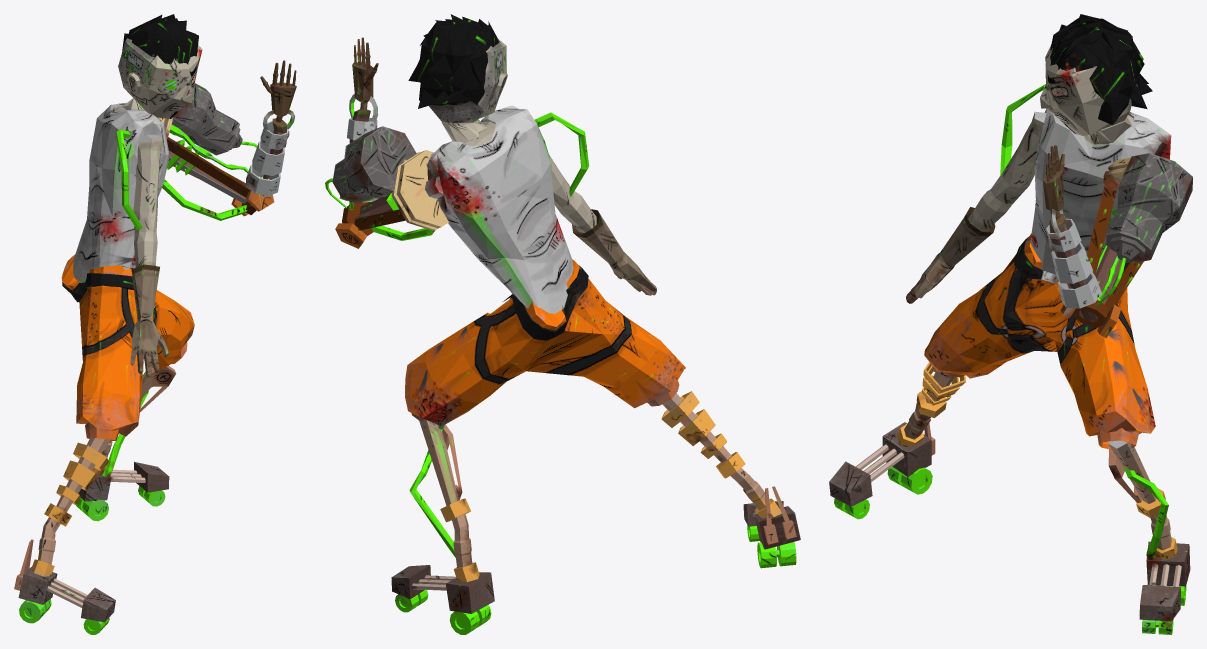
File: CyborgFINALAnimation_000047.obj
3 views of the same model, side by side, from view 1: azimuth 30°, elevation 25°; view 2: azimuth 150°, elevation 25°; view 3: azimuth 270°, elevation 25° (orthographic). The views are drawn at different scales.
Parts seen in each view (by area): view 1: CyborgMesh_Cube.002; view 2: CyborgMesh_Cube.002; view 3: CyborgMesh_Cube.002.
Part boxes in pixels (box(x1,y1,x2,y2)): CyborgMesh_Cube.002: box(14, 14, 296, 634); CyborgMesh_Cube.002: box(325, 14, 800, 634); CyborgMesh_Cube.002: box(829, 14, 1192, 634).
Size of the model in its own units: 6.02 by 8.66 by 4.7.
